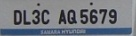character: (66, 8, 77, 24), (31, 8, 40, 25), (57, 8, 66, 25), (79, 7, 88, 24), (98, 7, 107, 24), (108, 7, 117, 24), (12, 9, 22, 24), (89, 8, 98, 24), (22, 8, 30, 25), (40, 9, 49, 24)
